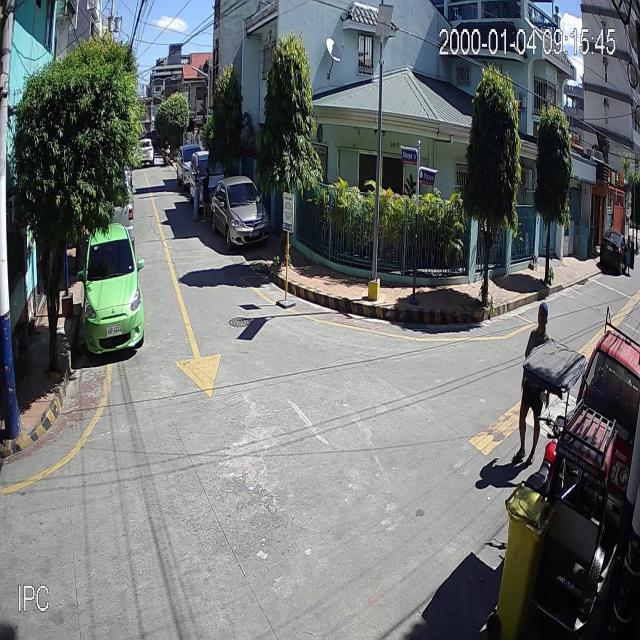walking: (516, 303, 552, 466)
